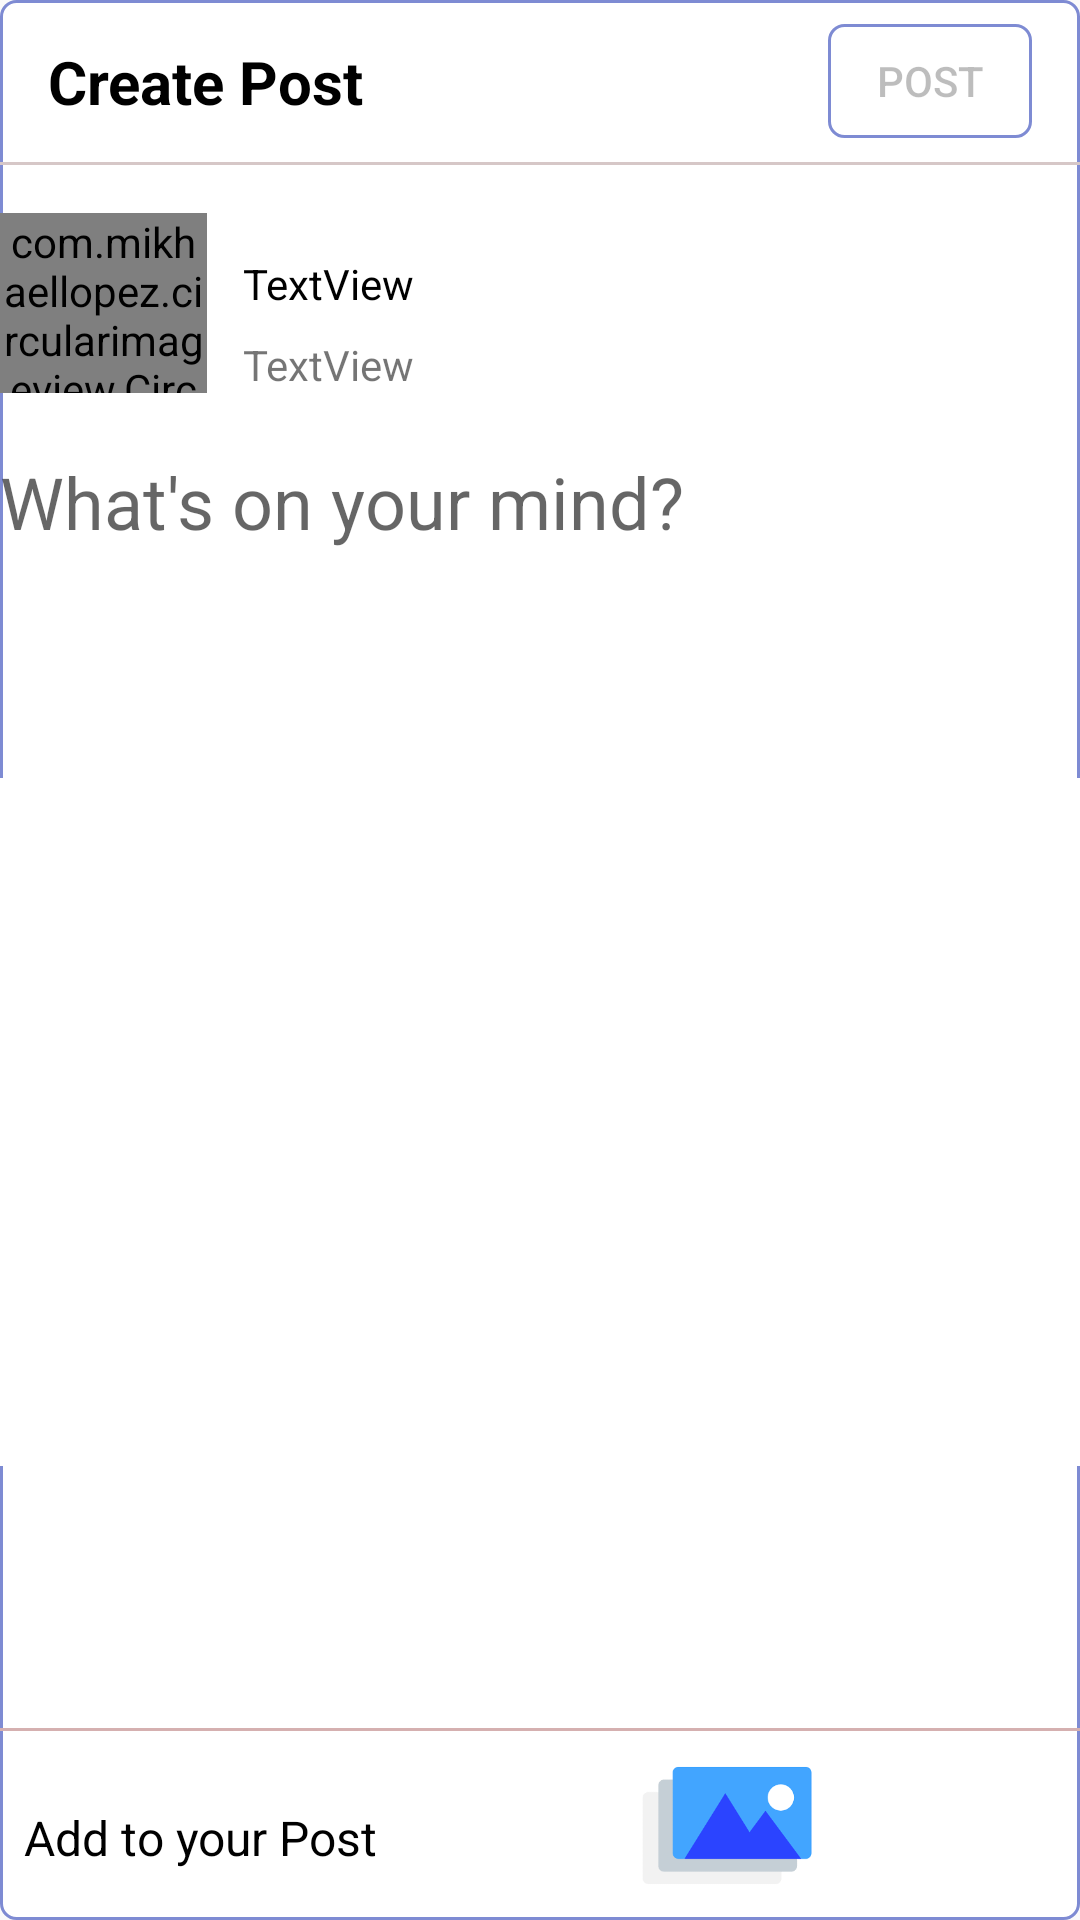

Where icons sit on this 1080px x 1920px app screen, as (x1, y1, x2, y2):
gallery: (658, 1767, 812, 1872)
